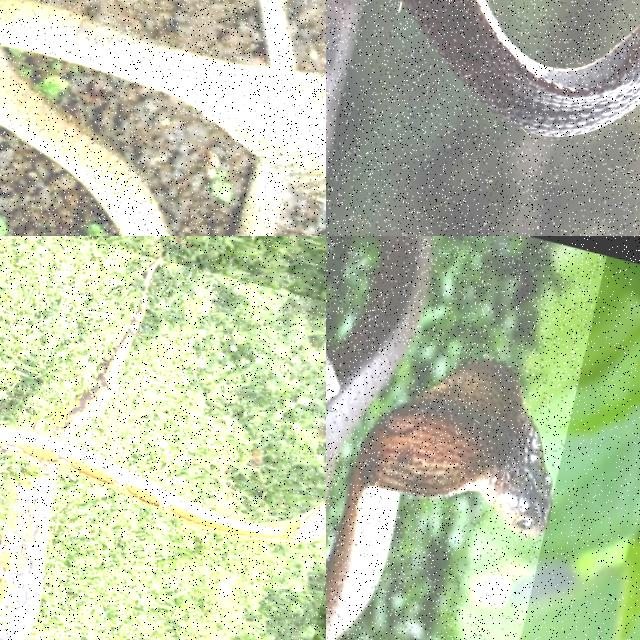Malayopython reticulatus: (0, 296, 325, 544)
Naja kaouthia: (0, 0, 325, 235), (326, 359, 551, 639)
Ophiophagus hannah: (402, 0, 639, 136)
snake: (0, 296, 325, 544), (0, 0, 325, 235), (326, 359, 551, 639), (402, 0, 639, 136)
